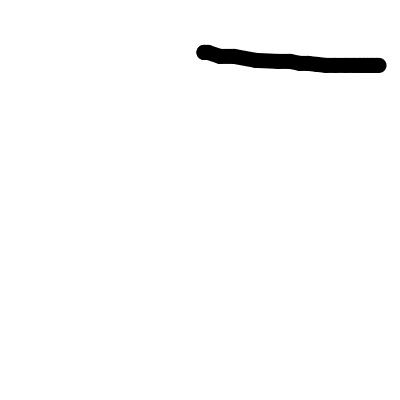minus: (197, 45, 386, 74)
